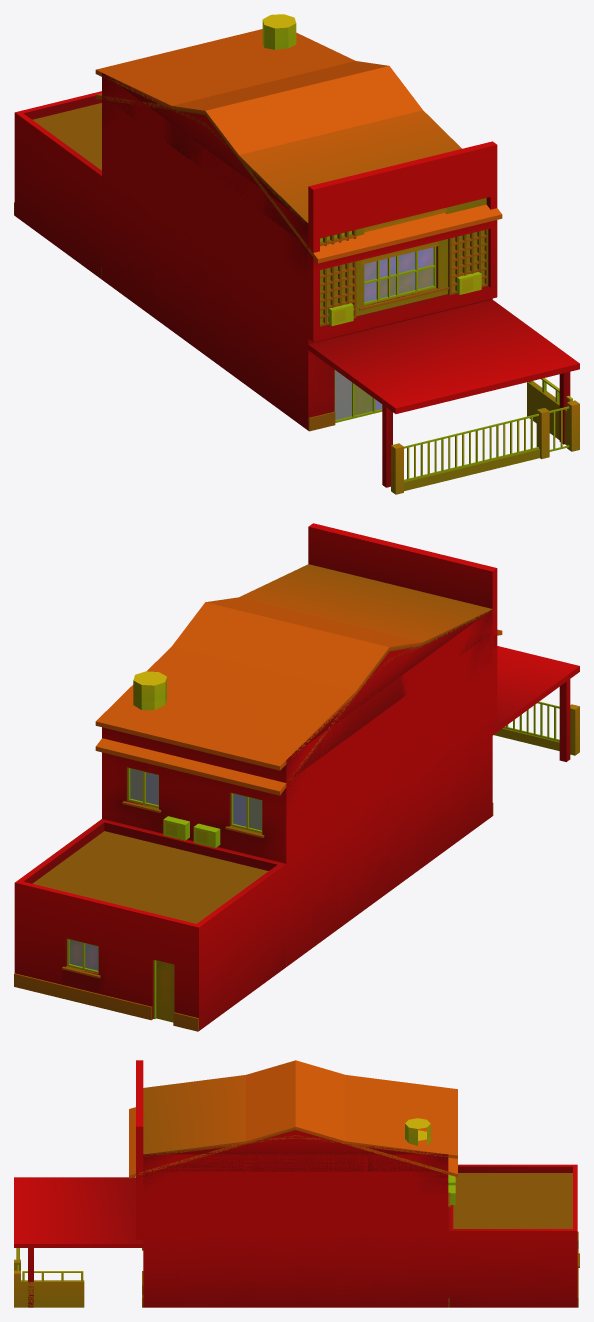
File: link_long.glb
The picture shows the model from 3 angles, top to bottom: view 1: azimuth 30°, elevation 25°; view 2: azimuth 150°, elevation 25°; view 3: azimuth 270°, elevation 25°; orthographic projection. The views are drawn at different scales.
Visible parts, largest first — view 1: link_long__gable__LOD0, link_long__modern__LOD0; view 2: link_long__gable__LOD0, link_long__modern__LOD0; view 3: link_long__gable__LOD0, link_long__modern__LOD0.
Part boxes in pixels (x1,y1,x2,y2): link_long__gable__LOD0: (14, 37, 579, 494); link_long__modern__LOD0: (15, 14, 497, 428); link_long__gable__LOD0: (14, 597, 579, 1031); link_long__modern__LOD0: (17, 523, 497, 1021); link_long__gable__LOD0: (14, 1060, 579, 1307); link_long__modern__LOD0: (136, 1060, 577, 1307).
Size of what is drawn, in the model's own units: 6.7 by 8.5 by 24.1.
